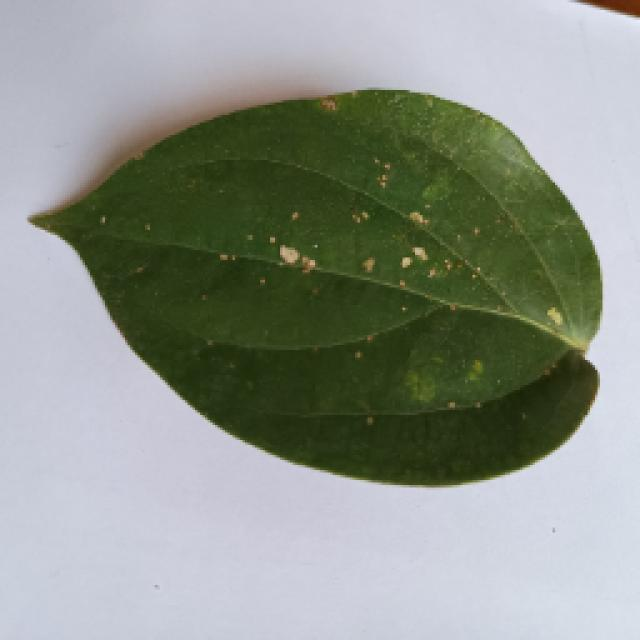pollu-disease: (18, 72, 612, 490)
